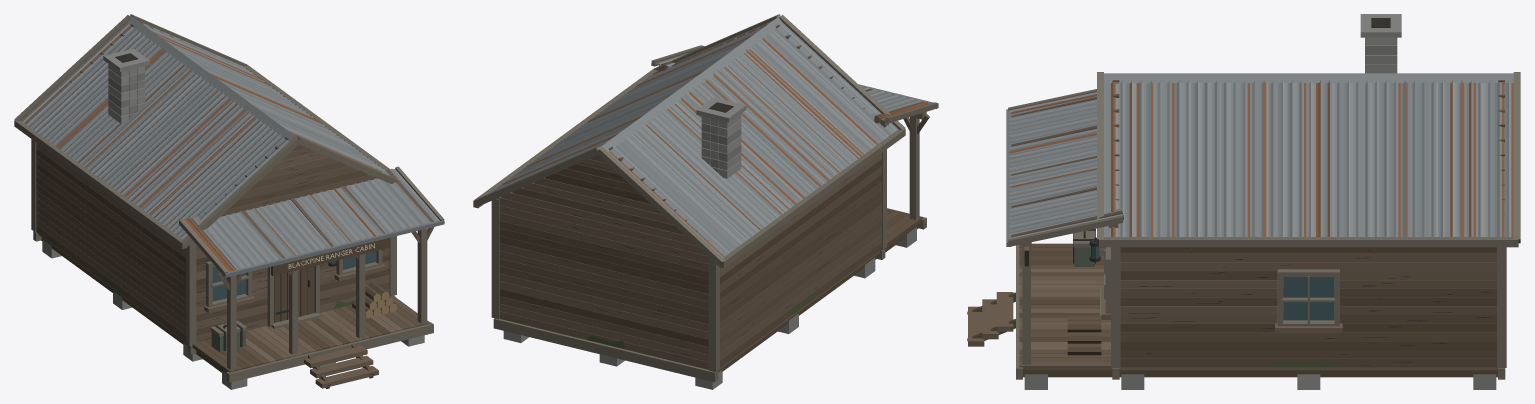
File: BlackpineRangerCabin.fbx
3 renders of one model, left to right at view 1: azimuth 30°, elevation 25°; view 2: azimuth 150°, elevation 25°; view 3: azimuth 270°, elevation 25°, orthographic. The views are drawn at different scales.
Parts seen in each view (by area): view 1: BP_CabinStructure, BP_MetalRoof, BP_Chimney, BP_Stairs, BP_PorchProps, BP_Door, BP_Sign, BP_WindowGlass, BP_Weathering; view 2: BP_CabinStructure, BP_MetalRoof, BP_Chimney, BP_Weathering; view 3: BP_MetalRoof, BP_CabinStructure, BP_PorchProps, BP_Chimney, BP_WindowGlass, BP_Stairs, BP_Weathering.
Boxes of the visible parts, box(x1,y1,x2,y2) form: BP_CabinStructure: box(14, 14, 444, 389); BP_MetalRoof: box(22, 15, 444, 277); BP_Chimney: box(103, 48, 149, 123); BP_Stairs: box(304, 344, 378, 388); BP_PorchProps: box(210, 261, 397, 352); BP_Door: box(274, 266, 314, 322); BP_Sign: box(271, 238, 389, 276); BP_WindowGlass: box(212, 251, 376, 301); BP_Weathering: box(45, 149, 389, 339); BP_CabinStructure: box(473, 14, 938, 389); BP_MetalRoof: box(490, 15, 938, 257); BP_Chimney: box(696, 97, 746, 178); BP_Weathering: box(516, 163, 865, 358); BP_MetalRoof: box(1006, 73, 1518, 246); BP_CabinStructure: box(1008, 72, 1520, 389); BP_PorchProps: box(1067, 228, 1101, 355); BP_Chimney: box(1360, 14, 1401, 73); BP_WindowGlass: box(1283, 277, 1334, 320); BP_Stairs: box(967, 292, 1015, 346); BP_Weathering: box(1129, 248, 1490, 366).
Size of the model in its own units: 694 by 627 by 1148.
